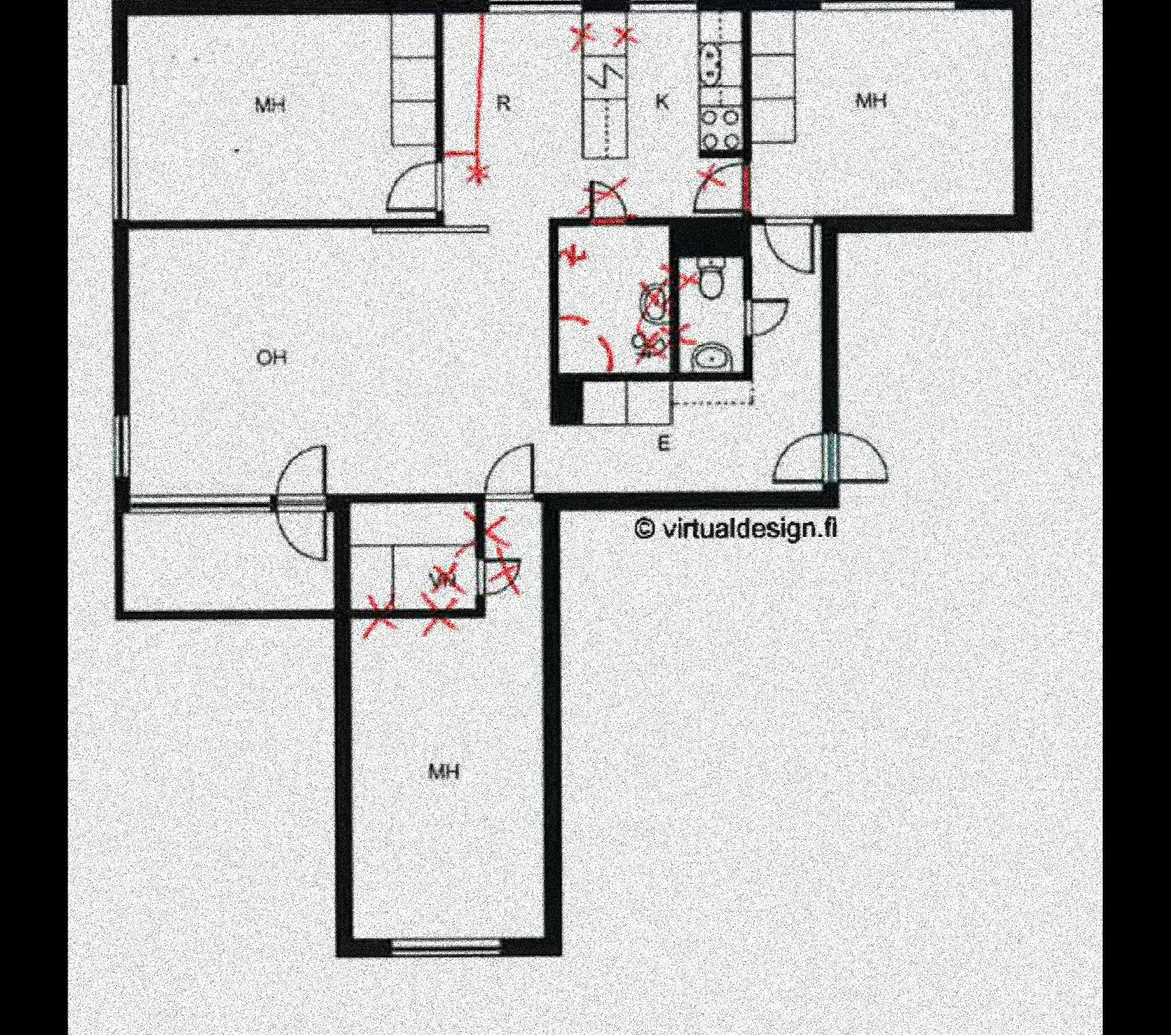door: (269, 443, 333, 560), (770, 432, 896, 484), (763, 212, 822, 281), (484, 439, 540, 504), (385, 161, 446, 217), (695, 161, 749, 213), (585, 172, 631, 225), (480, 551, 527, 592), (742, 299, 792, 335)
window: (126, 493, 277, 515), (108, 87, 132, 223), (393, 941, 498, 958), (821, 0, 954, 13), (491, 0, 582, 13), (115, 418, 132, 476), (624, 0, 698, 11)
zone: (133, 11, 820, 489), (344, 498, 536, 938), (128, 14, 433, 221), (751, 9, 1007, 221), (119, 512, 330, 609), (554, 226, 664, 368), (681, 255, 738, 376)
